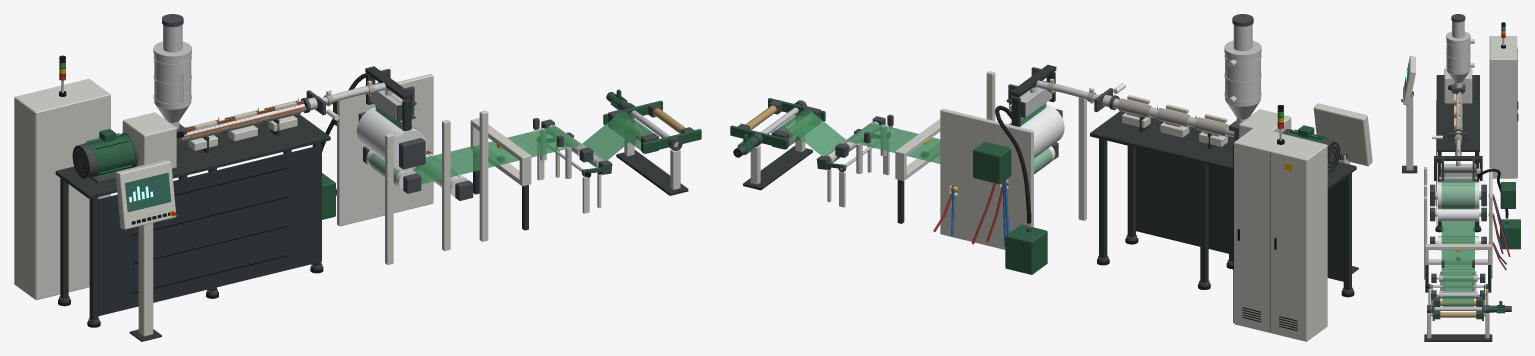
The model's file is castfilm-motion.glb.
The picture shows the model from 3 angles, left to right: view 1: azimuth 30°, elevation 25°; view 2: azimuth 150°, elevation 25°; view 3: azimuth 270°, elevation 25°; orthographic projection. The views are drawn at different scales.
Parts seen in each view (by area): view 1: Extruder, Control cabinet, ChillStand, Extruder hopper, Operator panel head, GaugeFrame, TurretFrame, Operator panel stand, ChillRoll_body, TurretArms, AdapterAndMeltPipe, DieHanger (+7 smaller); view 2: Extruder, Control cabinet, ChillStand, Extruder hopper, Operator panel head, TurretFrame, GaugeFrame, ChillRoll_body, TurretArms, AdapterAndMeltPipe, DieHanger, DancerFrame (+4 smaller); view 3: Control cabinet, Extruder, ChillStand, Extruder hopper, ChillRoll_body, TurretFrame, GaugeFrame, Operator panel stand, SecondRoll_body, ChillRoll stand, Operator panel head, TurretArms (+37 smaller).
Boxes of the visible parts, left/top/right/bottom form: Extruder: left=55, top=97, right=330, bottom=327; Control cabinet: left=14, top=78, right=110, bottom=300; ChillStand: left=322, top=69, right=488, bottom=264; Extruder hopper: left=153, top=14, right=191, bottom=137; Operator panel head: left=115, top=159, right=176, bottom=229; GaugeFrame: left=470, top=118, right=531, bottom=230; TurretFrame: left=606, top=89, right=688, bottom=195; Operator panel stand: left=129, top=223, right=161, bottom=341; ChillRoll_body: left=356, top=107, right=427, bottom=171; TurretArms: left=603, top=100, right=701, bottom=153; AdapterAndMeltPipe: left=306, top=80, right=392, bottom=120; DieHanger: left=365, top=66, right=412, bottom=131; Extruder: left=1090, top=95, right=1356, bottom=297; Control cabinet: left=1233, top=127, right=1327, bottom=341; ChillStand: left=940, top=67, right=1086, bottom=274; Extruder hopper: left=1224, top=14, right=1261, bottom=132; Operator panel head: left=1313, top=103, right=1372, bottom=166; TurretFrame: left=733, top=100, right=812, bottom=190; GaugeFrame: left=895, top=119, right=940, bottom=223; ChillRoll_body: left=1009, top=104, right=1064, bottom=158; TurretArms: left=730, top=98, right=825, bottom=149; AdapterAndMeltPipe: left=1030, top=78, right=1125, bottom=111; DieHanger: left=1010, top=64, right=1056, bottom=126; DancerFrame: left=827, top=132, right=890, bottom=207; Control cabinet: left=1489, top=36, right=1518, bottom=178; Extruder: left=1435, top=68, right=1481, bottom=232; ChillStand: left=1424, top=157, right=1520, bottom=279; Extruder hopper: left=1446, top=14, right=1474, bottom=92; ChillRoll_body: left=1435, top=181, right=1481, bottom=209; TurretFrame: left=1424, top=301, right=1511, bottom=341; GaugeFrame: left=1425, top=244, right=1491, bottom=292; Operator panel stand: left=1402, top=91, right=1417, bottom=173; SecondRoll_body: left=1435, top=209, right=1481, bottom=221; ChillRoll stand: left=1430, top=184, right=1510, bottom=256; Operator panel head: left=1401, top=56, right=1415, bottom=105; TurretArms: left=1431, top=297, right=1485, bottom=320.
Size of the model in its own units: 6.56 by 2.75 by 1.72.
